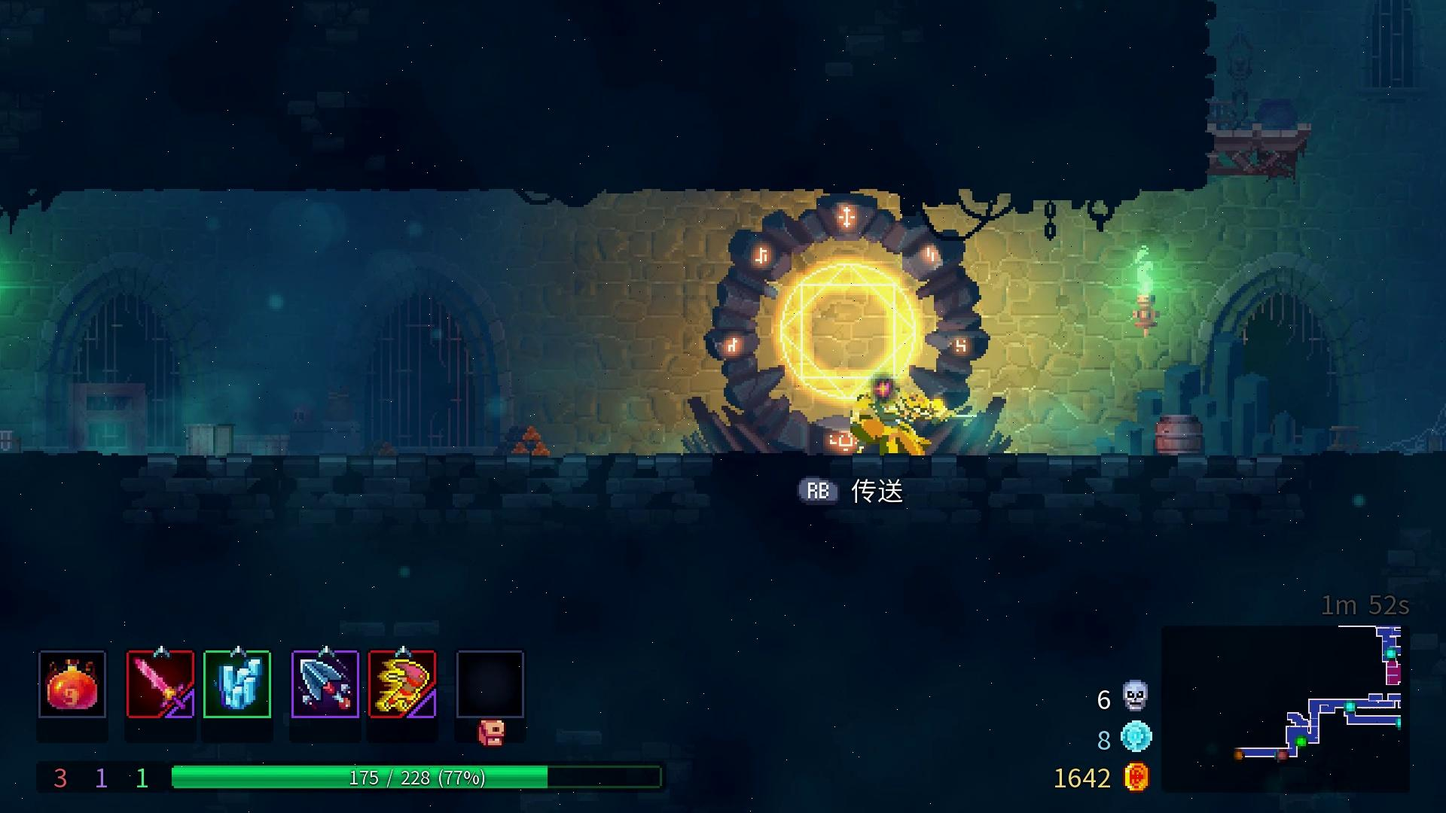door: (706, 202, 998, 452)
gamer: (846, 374, 962, 454)
